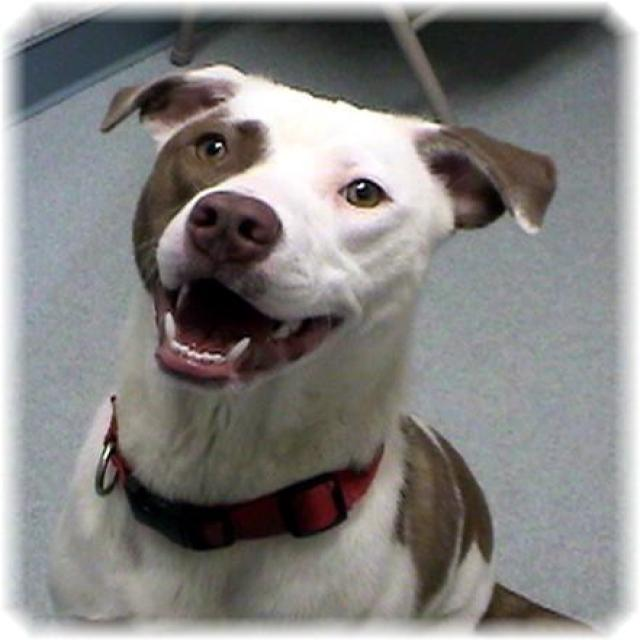dogs: (48, 65, 606, 638)
